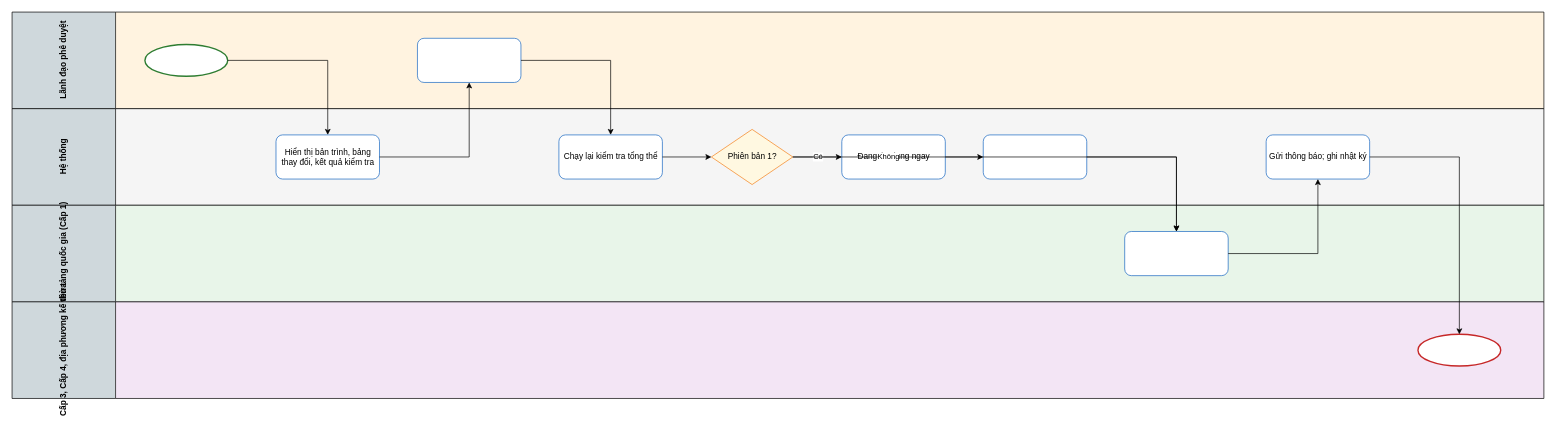
Some shapes in this 1556 by 428 pixel diagram are drawn without their labels. Each missing label, with the centre of its shape:
"Chờ áp dụng theo ngày đã chốt" goes at [1035,156].
"Kiểm tra tương thích, đăng ký vào danh mục quốc gia" goes at [1176,253].
"Mở bản Chờ phê duyệt" goes at [186,60].
"Nhận thông báo" goes at [1459,349].
"Xem; giữ hoặc chỉnh ngày áp dụng; nhấn Phê duyệt" goes at [469,60].
